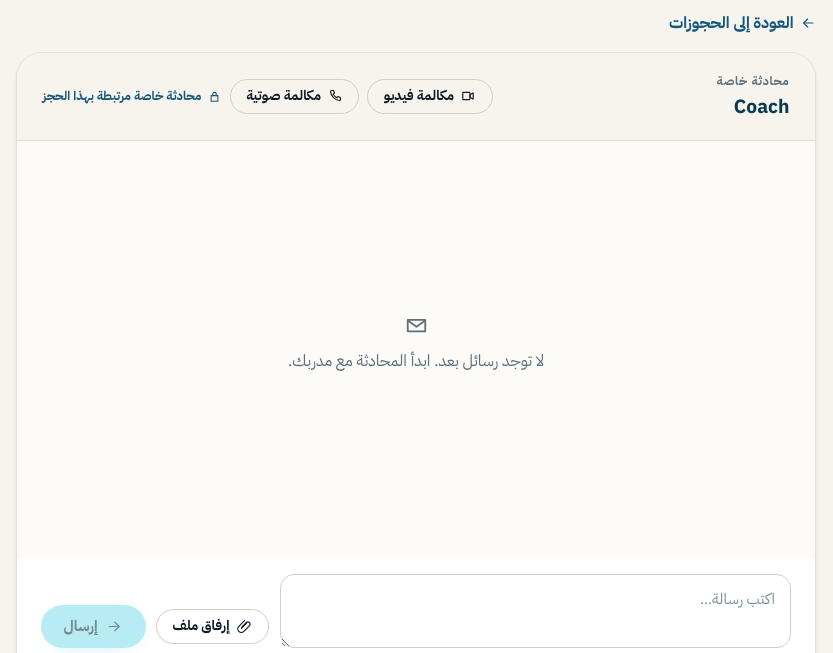
Scenario: ConversationPageComponent message sending › sends valid messages normally and clears the draft after success
In the text box with id "chat-message": coordinates (536, 611) [280,574,791,648], type "See you at the gym tomorrow."
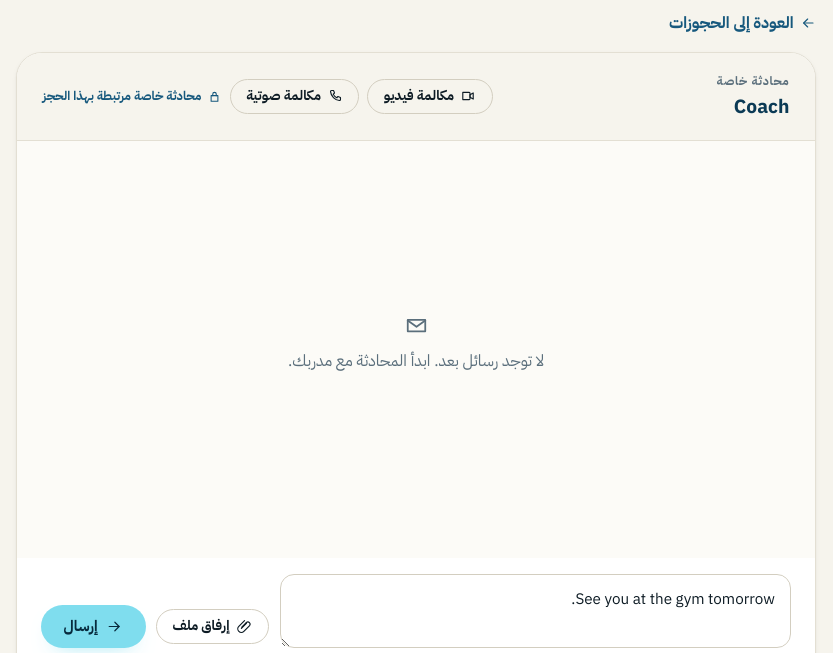
Submit the form, box [17,558,815,652]
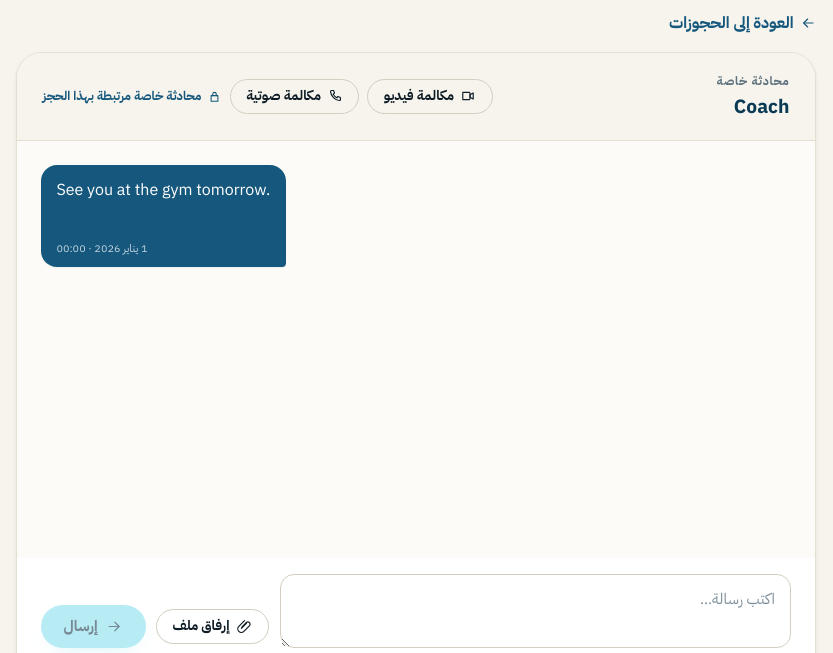
Result: the text box with id "chat-message" is empty at [280,574,791,648]
Result: the text "See you at the gym tomorrow." is shown at [56,177,270,203]
